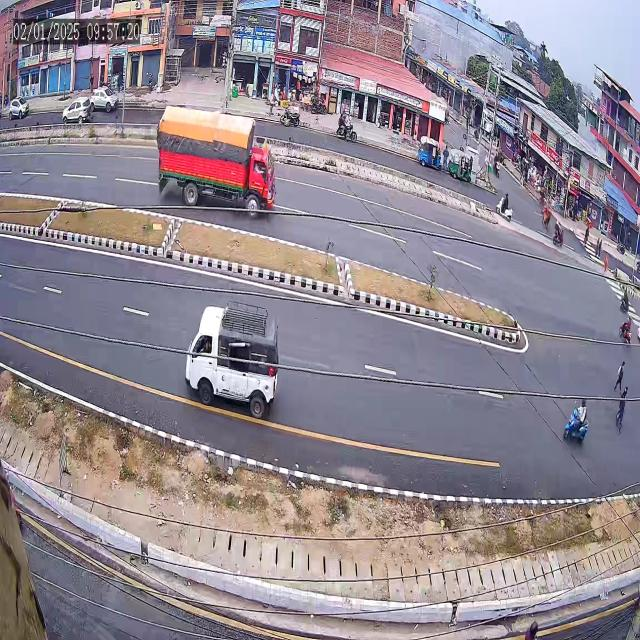motorcycle: (554, 387, 596, 459), (488, 188, 516, 228)
truck: (156, 98, 282, 242)
van: (180, 290, 298, 436)
